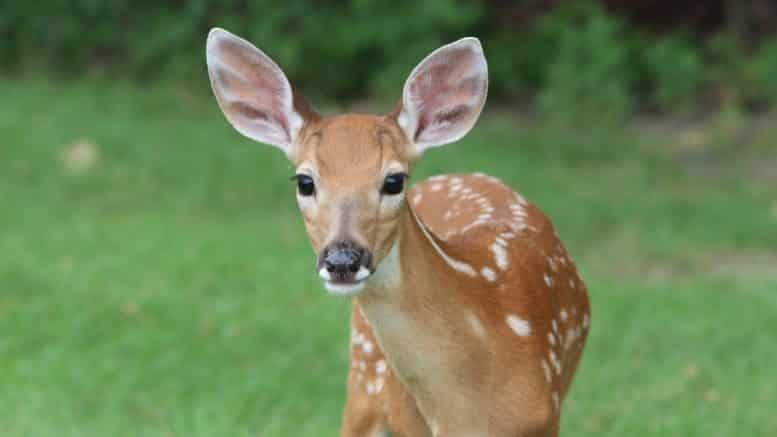Deer: (198, 21, 598, 437)
